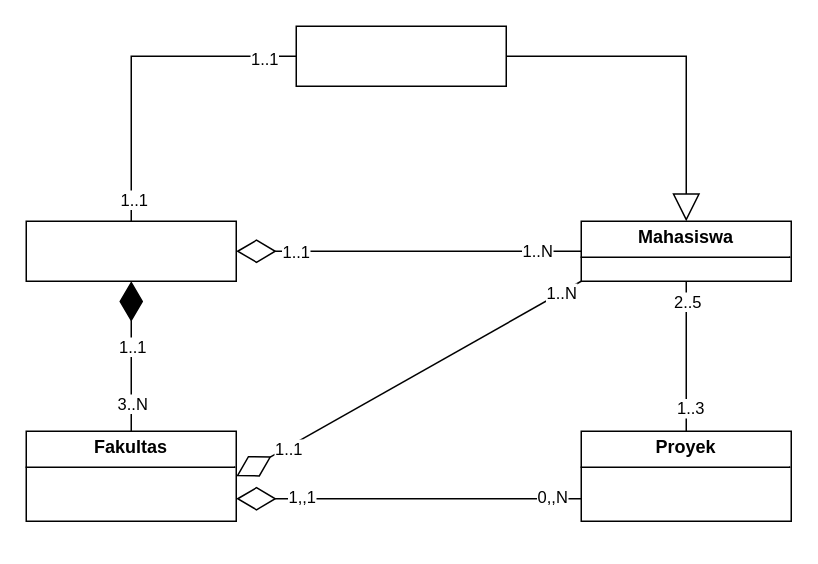
Image size: 818x564. Some labels were removed from this diagram. Each missing label, with the centre of its shape:
"Kampus" belongs at (x=130, y=250).
"Presiden Mahasiswa" belongs at (x=400, y=55).
